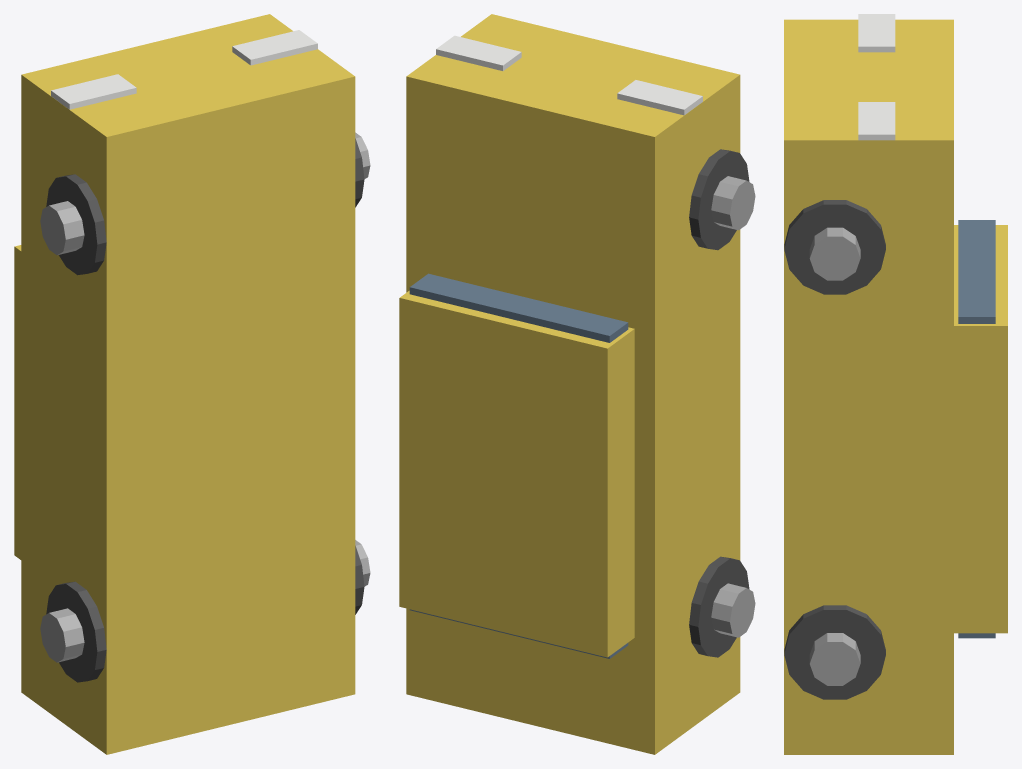
File: sports_convertible.glb
The picture shows the model from 3 angles, left to right: view 1: azimuth 30°, elevation 25°; view 2: azimuth 150°, elevation 25°; view 3: azimuth 270°, elevation 25°; orthographic projection.
Visible parts, largest first — view 1: body, wheel_-1_1, wheel_-1_-1, cabin, hub_-1_-1, hub_-1_1, headlamp_r, headlamp_l; view 2: body, cabin, glass_f, wheel_-1_1, wheel_-1_-1, hub_-1_1, hub_-1_-1, headlamp_r, headlamp_l; view 3: body, cabin, wheel_1_1, wheel_1_-1, glass_f, hub_1_1, hub_1_-1, headlamp_l, headlamp_r.
Boxes of the visible parts, bbox=[...] form: body: bbox=[21, 14, 355, 754]; wheel_-1_1: bbox=[46, 174, 106, 275]; wheel_-1_-1: bbox=[46, 581, 106, 682]; cabin: bbox=[14, 245, 21, 559]; hub_-1_-1: bbox=[40, 608, 84, 662]; hub_-1_1: bbox=[40, 201, 84, 255]; headlamp_r: bbox=[232, 30, 317, 65]; headlamp_l: bbox=[51, 74, 136, 109]; body: bbox=[406, 14, 740, 754]; cabin: bbox=[399, 290, 634, 657]; glass_f: bbox=[409, 273, 628, 342]; wheel_-1_1: bbox=[689, 149, 749, 250]; wheel_-1_-1: bbox=[689, 556, 749, 657]; hub_-1_1: bbox=[711, 176, 755, 230]; hub_-1_-1: bbox=[711, 583, 755, 637]; headlamp_r: bbox=[436, 35, 521, 70]; headlamp_l: bbox=[617, 80, 702, 115]; body: bbox=[784, 19, 953, 754]; cabin: bbox=[954, 225, 1007, 633]; wheel_1_1: bbox=[784, 200, 885, 294]; wheel_1_-1: bbox=[784, 605, 885, 699]; glass_f: bbox=[958, 220, 995, 323]; hub_1_1: bbox=[809, 227, 860, 280]; hub_1_-1: bbox=[809, 633, 860, 685]; headlamp_l: bbox=[858, 14, 895, 52]; headlamp_r: bbox=[858, 102, 895, 140].
Size of the model in its own units: 2.27 by 4.48 by 1.45.
